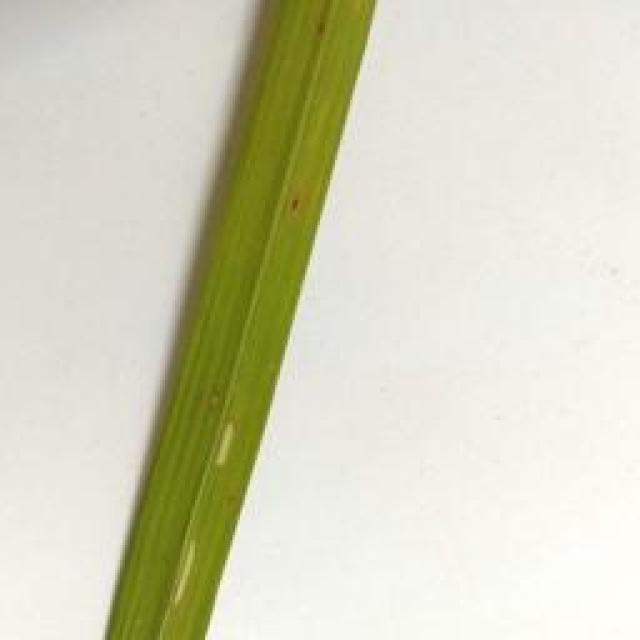Bacterial_Blight: (211, 417, 245, 470)
Brown_Spot: (284, 185, 306, 229), (312, 18, 330, 45)
Rice_Blast: (172, 533, 213, 612)
